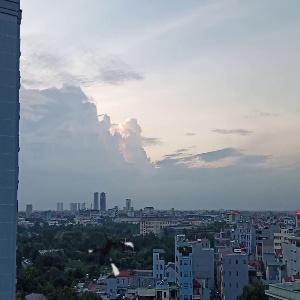drone: (88, 230, 138, 280)
